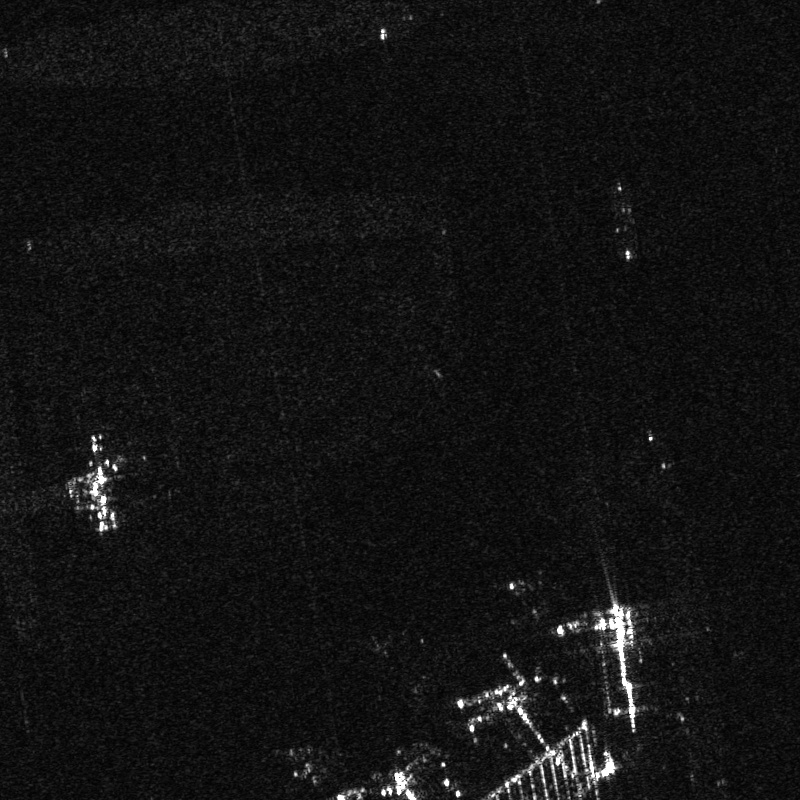A220: (508, 578, 561, 622)
